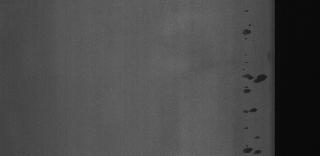oil spot: (240, 61, 268, 93), (242, 136, 264, 154), (239, 105, 261, 119), (241, 23, 257, 41), (244, 126, 250, 130)
